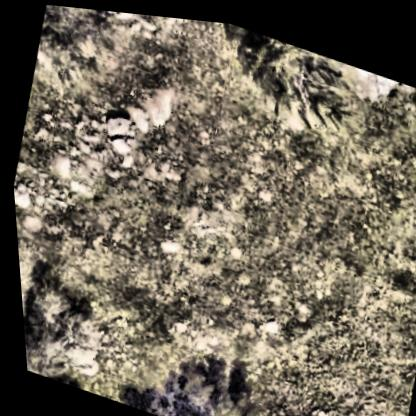tree-top: (201, 16, 370, 147), (14, 242, 125, 394), (26, 2, 127, 102), (173, 361, 277, 416)
